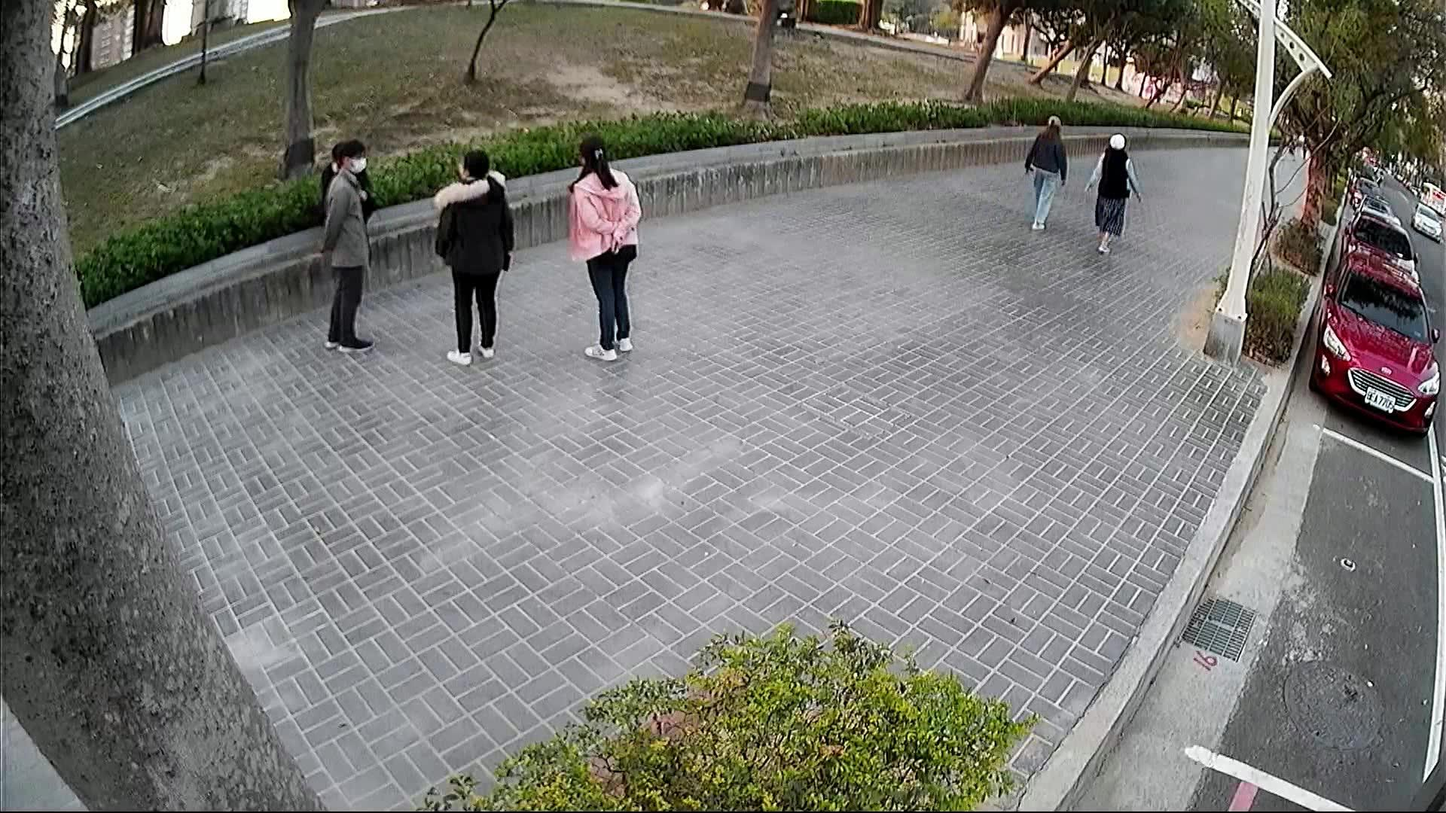person: (425, 142, 516, 369), (560, 128, 645, 364), (311, 132, 382, 355), (1076, 123, 1149, 257), (1014, 106, 1072, 236)
